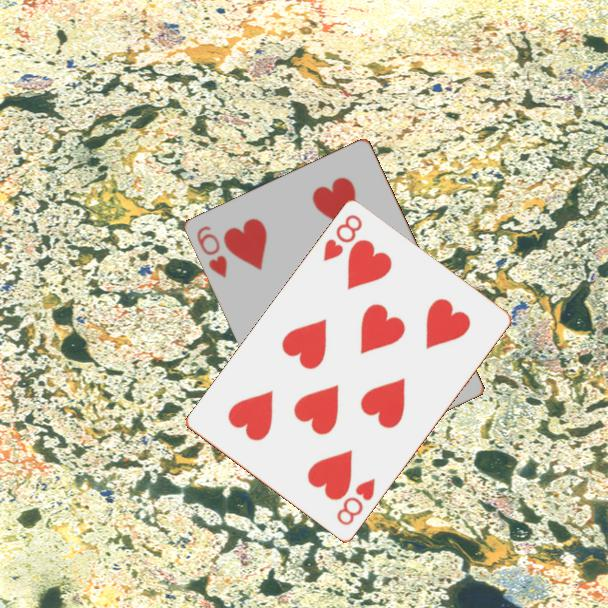h06: (194, 222, 231, 281)
h08: (333, 475, 378, 529), (320, 211, 365, 265)
